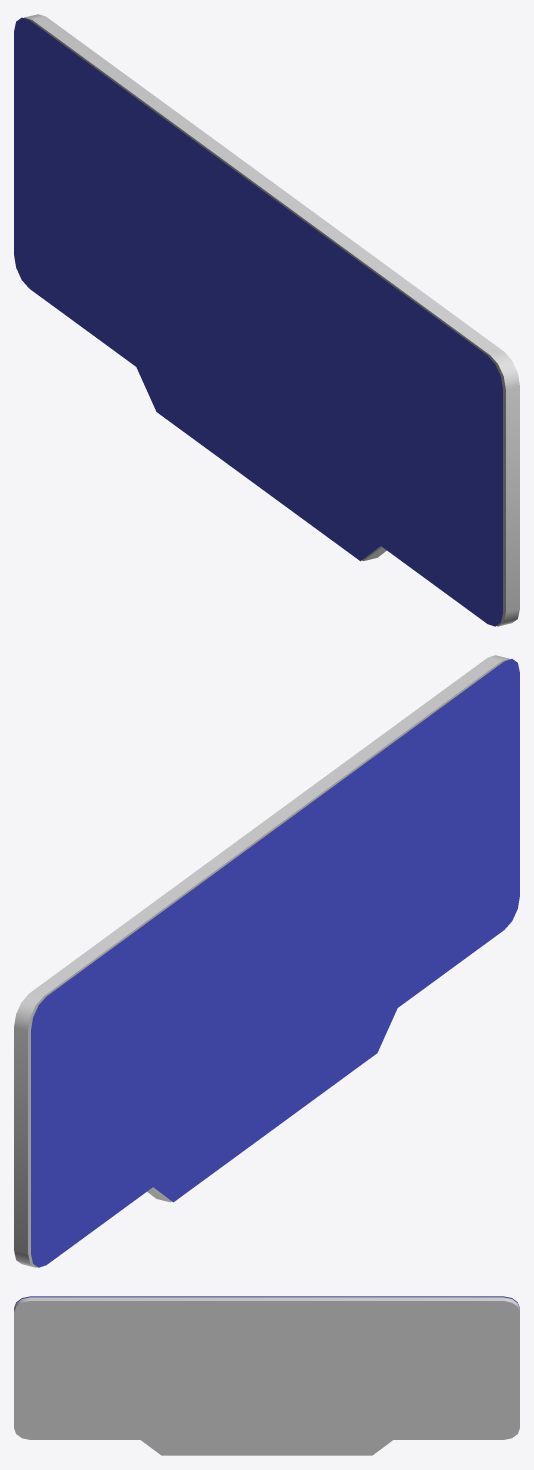
The model's file is Clavier .fbx.
3 views of the same model, one above another, from view 1: azimuth 30°, elevation 25°; view 2: azimuth 150°, elevation 25°; view 3: azimuth 270°, elevation 25° (orthographic). The views are drawn at different scales.
Visible parts, largest first — view 1: Cube.008, Cube; view 2: Cube.008, Cube; view 3: Cube, Cube.008.
Boxes of the visible parts, x1,y1,x2,y2 form: Cube.008: (14,17,502,626); Cube: (24,14,519,626); Cube.008: (31,659,519,1267); Cube: (14,655,509,1267); Cube: (14,1297,519,1455); Cube.008: (14,1296,519,1308).
Size of the model in its own units: 1.31 by 22.16 by 65.59.
